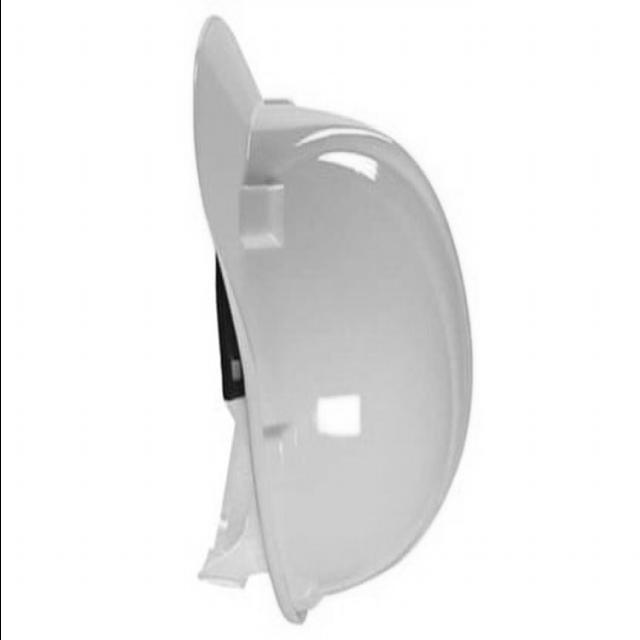safety_helmet: (189, 14, 471, 626)
